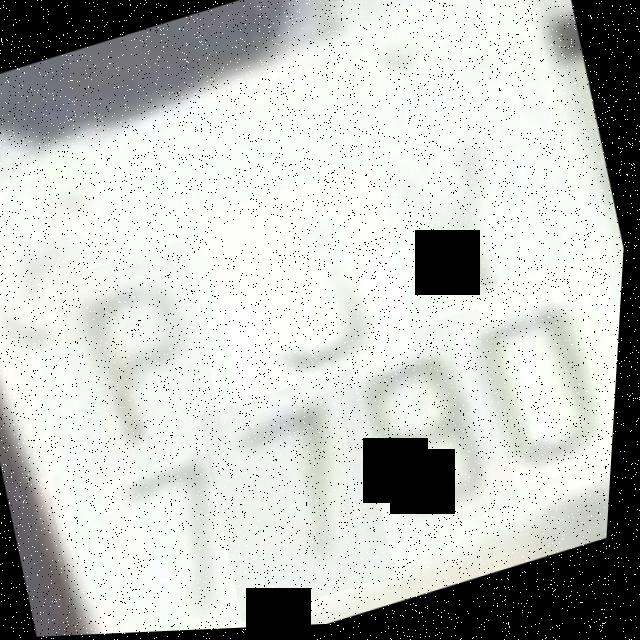0: (440, 255, 627, 503)
7: (194, 369, 412, 625), (90, 415, 285, 636)
9: (323, 310, 535, 554)
J: (191, 163, 432, 422)
P: (47, 241, 241, 486)
